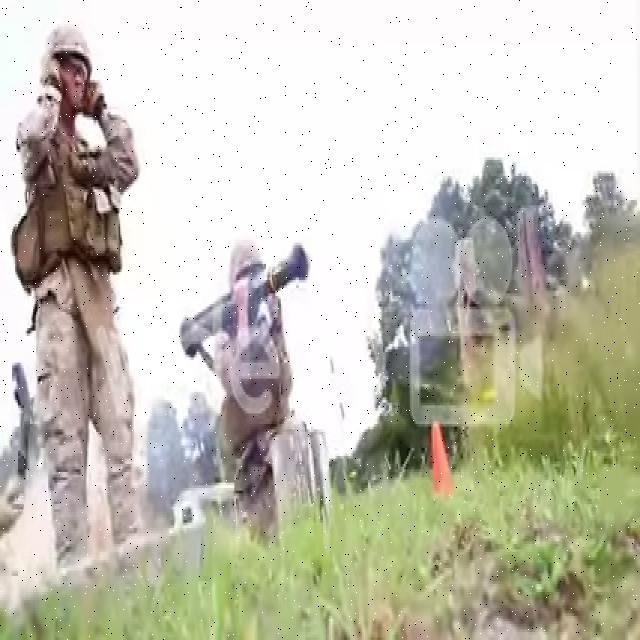bazooka: (176, 235, 315, 365)
